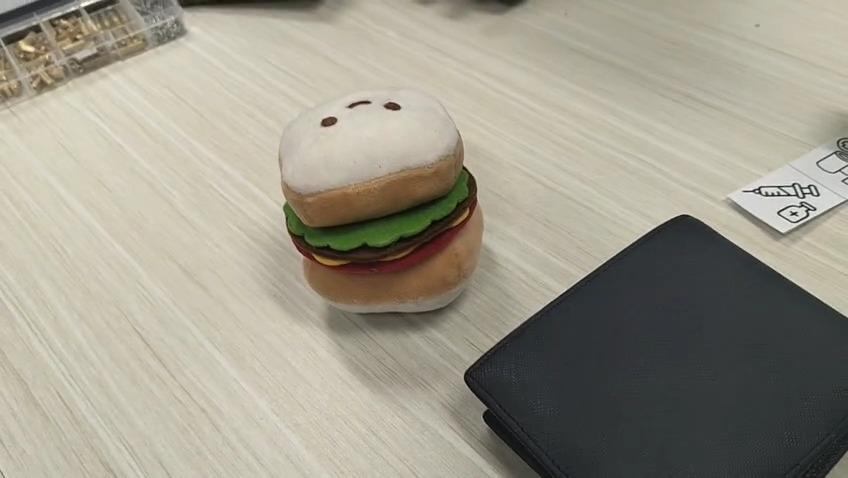objects: (276, 85, 480, 312)
